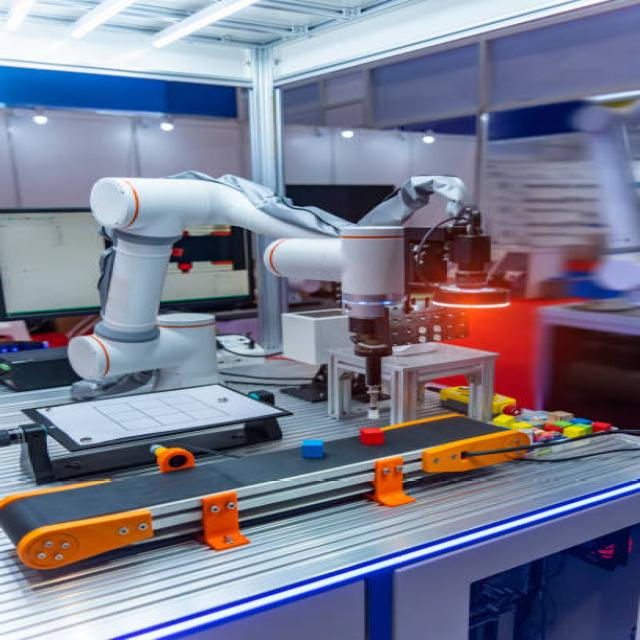Robotic-arm: (45, 163, 428, 400)
